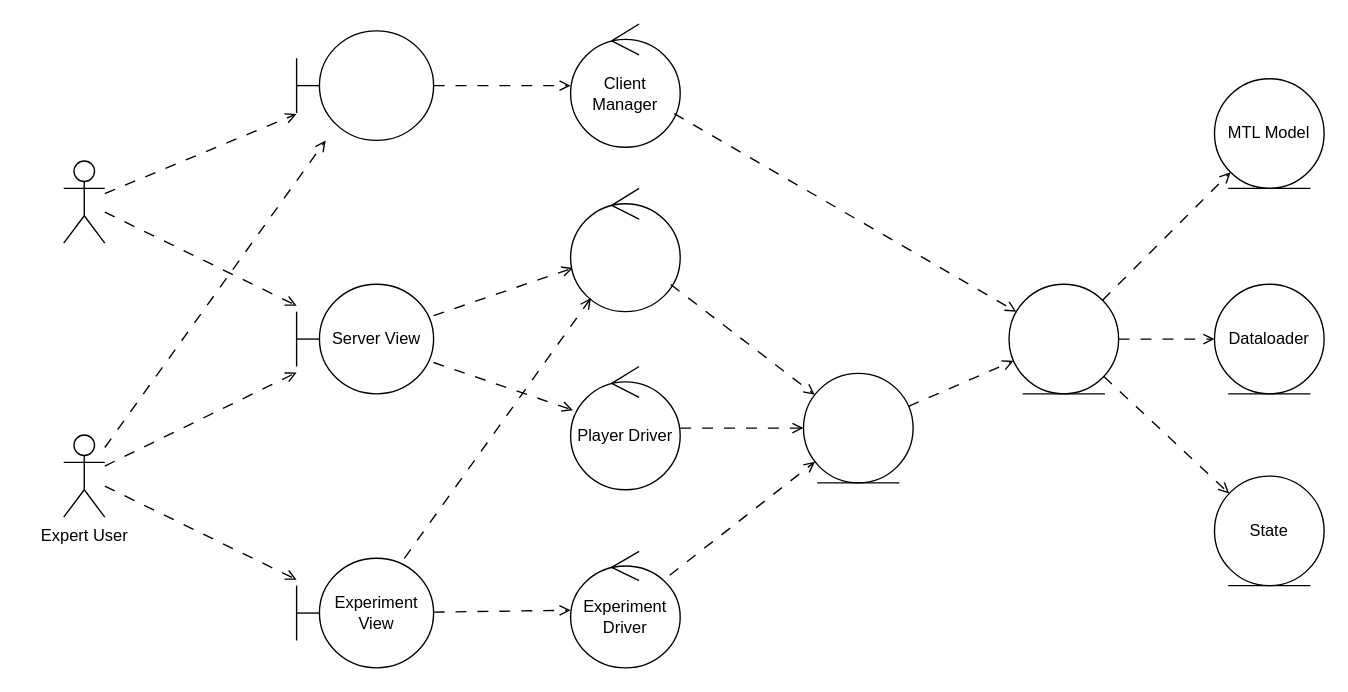
The diagram is 1348 pixels wide and 692 high, and some of its shapes have lost their labels. Here are the shapes that lost their labels. From the top down, the centre of each, then its label:
At (x=364, y=84): "Client View".
At (x=83, y=201): "Non-Expert User".
At (x=624, y=249): "Server Manager".
At (x=1063, y=338): "Federated Client".
At (x=857, y=427): "Federated Server".
